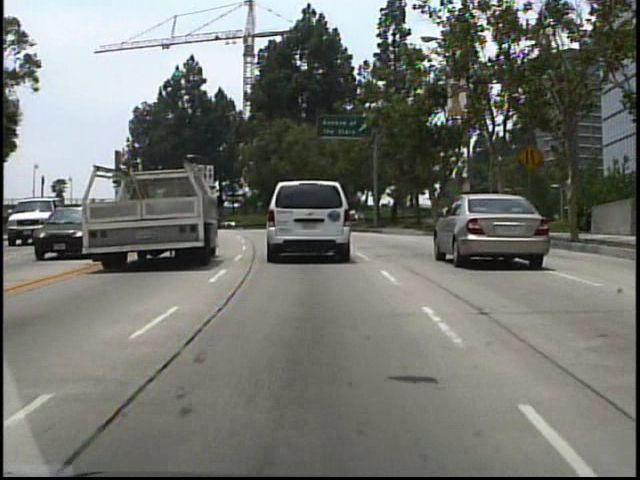person: (447, 193, 466, 234)
